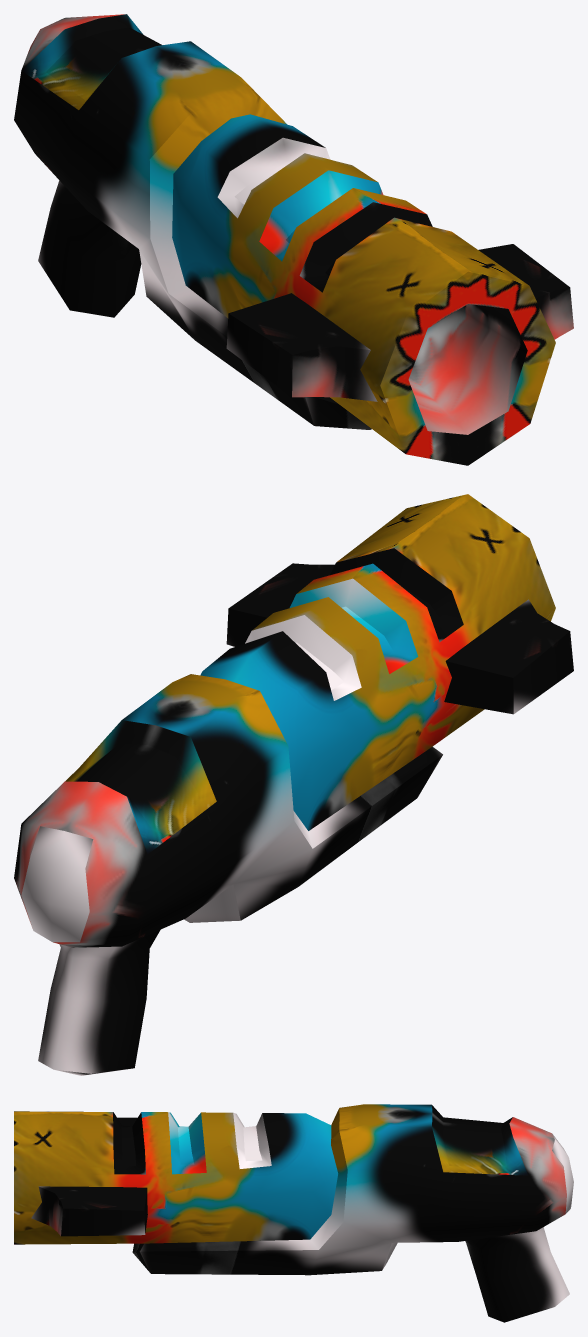
The model's file is weapon_rl.fbx.
3 renders of one model, top to bottom at view 1: azimuth 30°, elevation 25°; view 2: azimuth 150°, elevation 25°; view 3: azimuth 270°, elevation 25°, orthographic. The views are drawn at different scales.
Visible parts, largest first — view 1: rl; view 2: rl; view 3: rl.
Boxes of the visible parts, bbox=[...] form: rl: bbox=[14, 14, 573, 465]; rl: bbox=[14, 494, 573, 1075]; rl: bbox=[14, 1104, 573, 1322].
Size of the model in its own units: 19.92 by 20.23 by 50.2.
